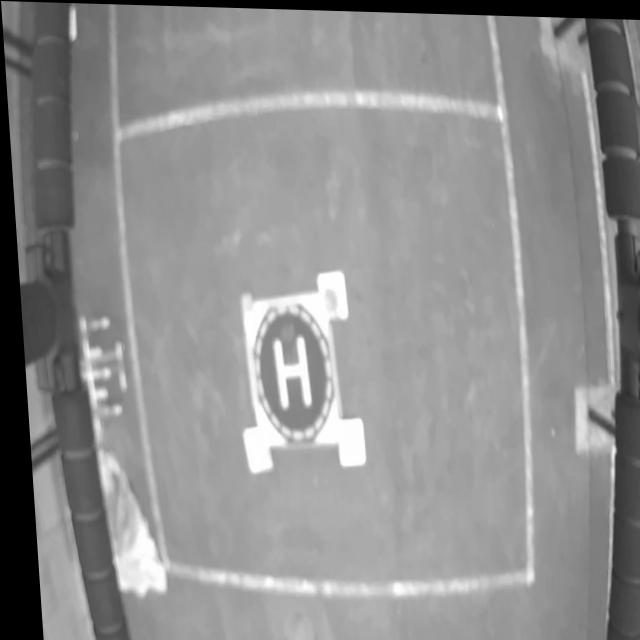Helipad: (267, 329, 307, 406)
